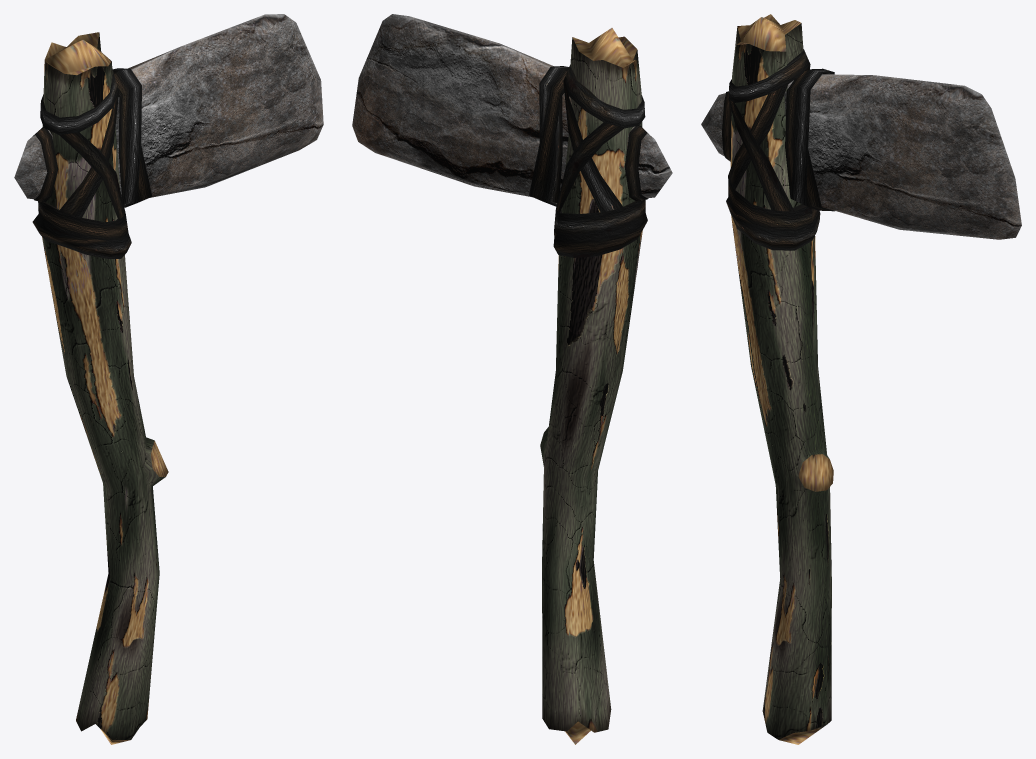
The model's file is Gnome01_Weapon.fbx.
The picture shows the model from 3 angles, left to right: view 1: azimuth 30°, elevation 25°; view 2: azimuth 150°, elevation 25°; view 3: azimuth 330°, elevation 25°; orthographic projection.
Parts seen in each view (by area): view 1: Weapon02_LOD0, Weapon01_LOD0; view 2: Weapon02_LOD0, Weapon01_LOD0; view 3: Weapon02_LOD0, Weapon01_LOD0.
Boxes of the visible parts, left/top/right/bottom form: Weapon02_LOD0: left=14, top=14, right=323, bottom=744; Weapon01_LOD0: left=32, top=68, right=152, bottom=258; Weapon02_LOD0: left=352, top=14, right=672, bottom=744; Weapon01_LOD0: left=529, top=65, right=648, bottom=257; Weapon02_LOD0: left=701, top=14, right=1021, bottom=744; Weapon01_LOD0: left=722, top=49, right=834, bottom=250.
Size of what is drawn, in the model's own units: 23.88 by 52.12 by 6.45.
